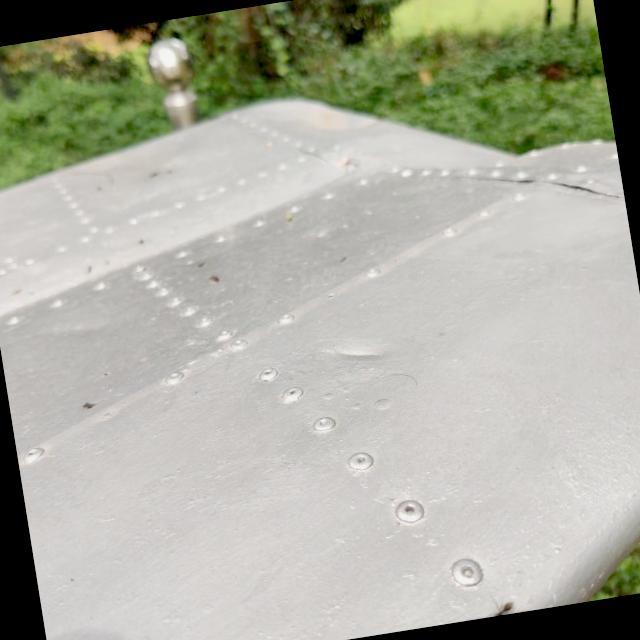dent: (306, 322, 417, 392)
